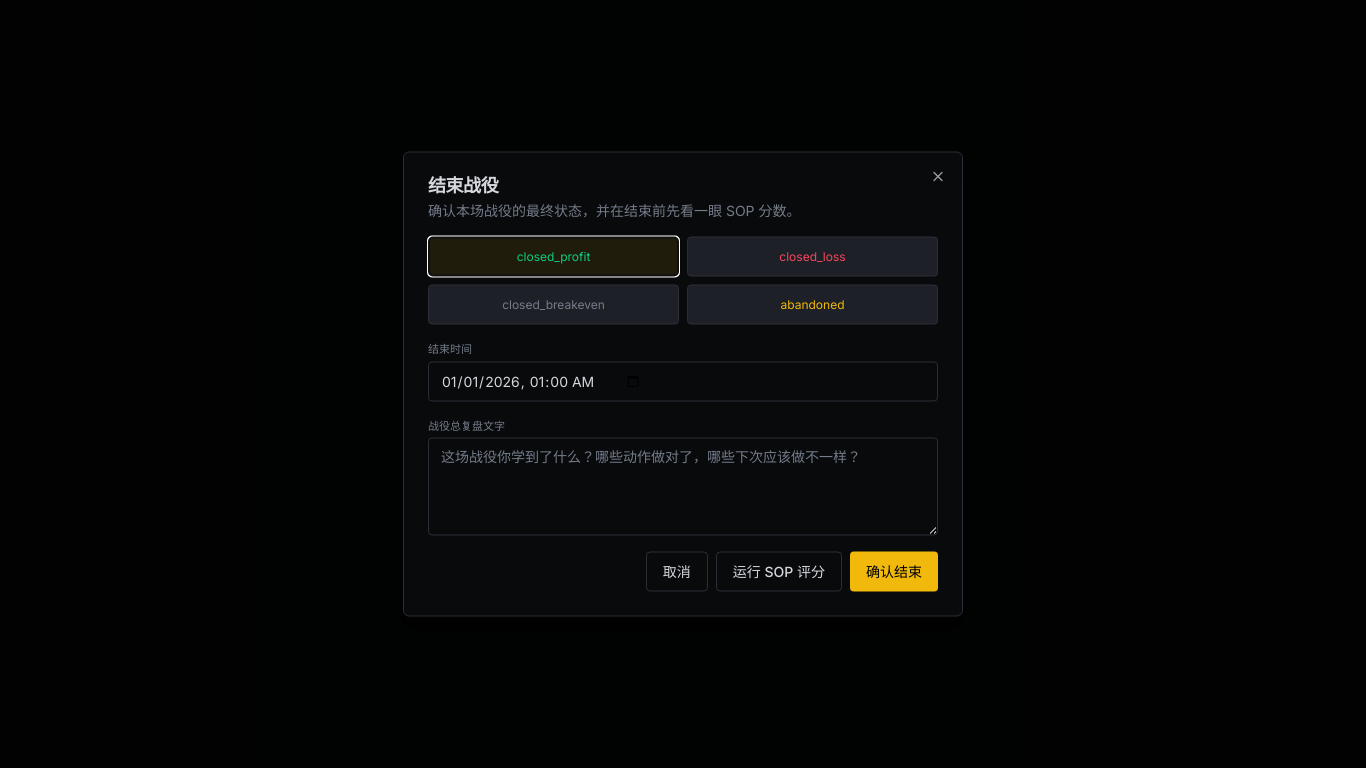
it: EndCampaignDialog · 由校正后的结算推出状态 › 未结算：退回手选流程，默认 closed_profit，没有按钮被锁死，「放弃」在这一档可选
Later steps or results of the test are not shown.
Expected: the dialog is shown, [403,152,963,616]
Expected: the button "closed_profit" is enabled, [428,236,679,276]
Click the button "closed_loss".
click(812, 256)  # box [687,236,938,276]
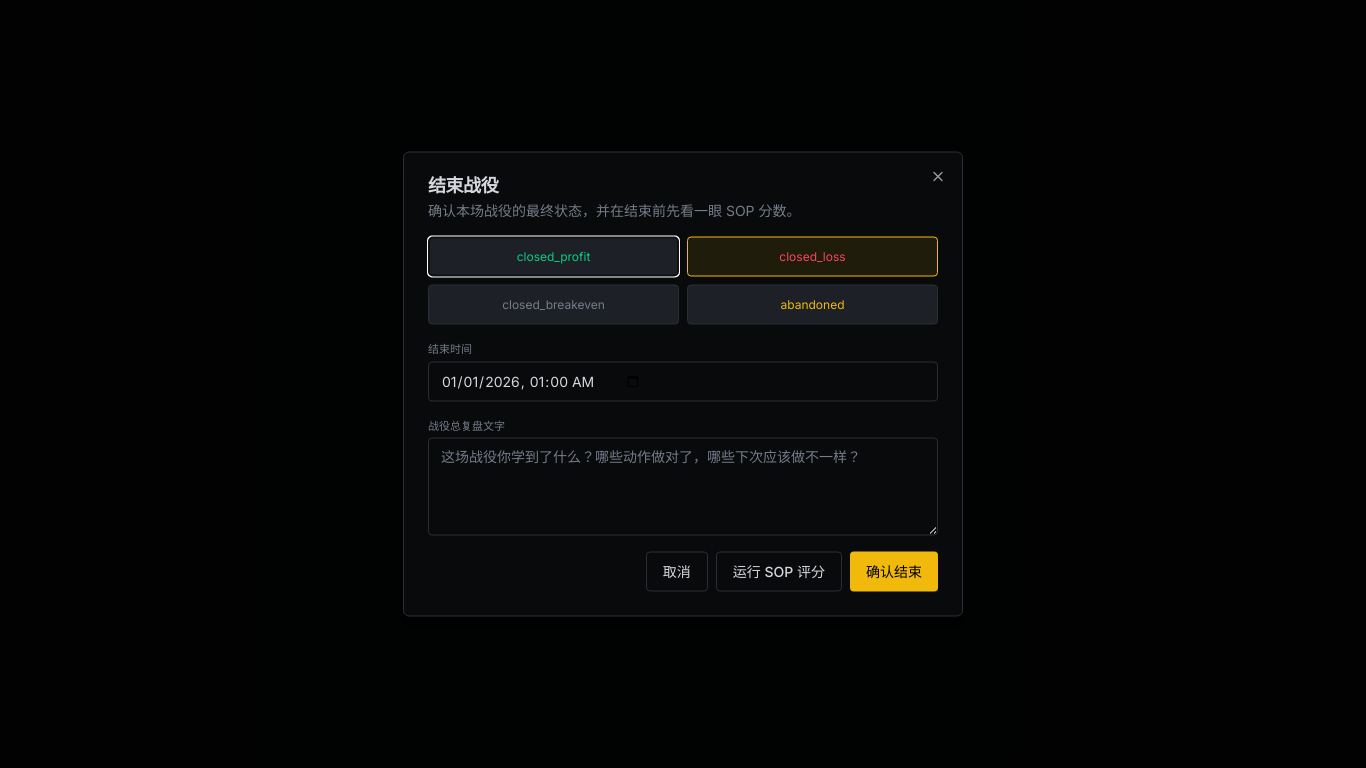
Expected: the button "closed_loss" has class "border-[#F0B90B]", [687,236,938,276]
Click the button "abandoned".
click(812, 304)  # box [687,284,938,324]
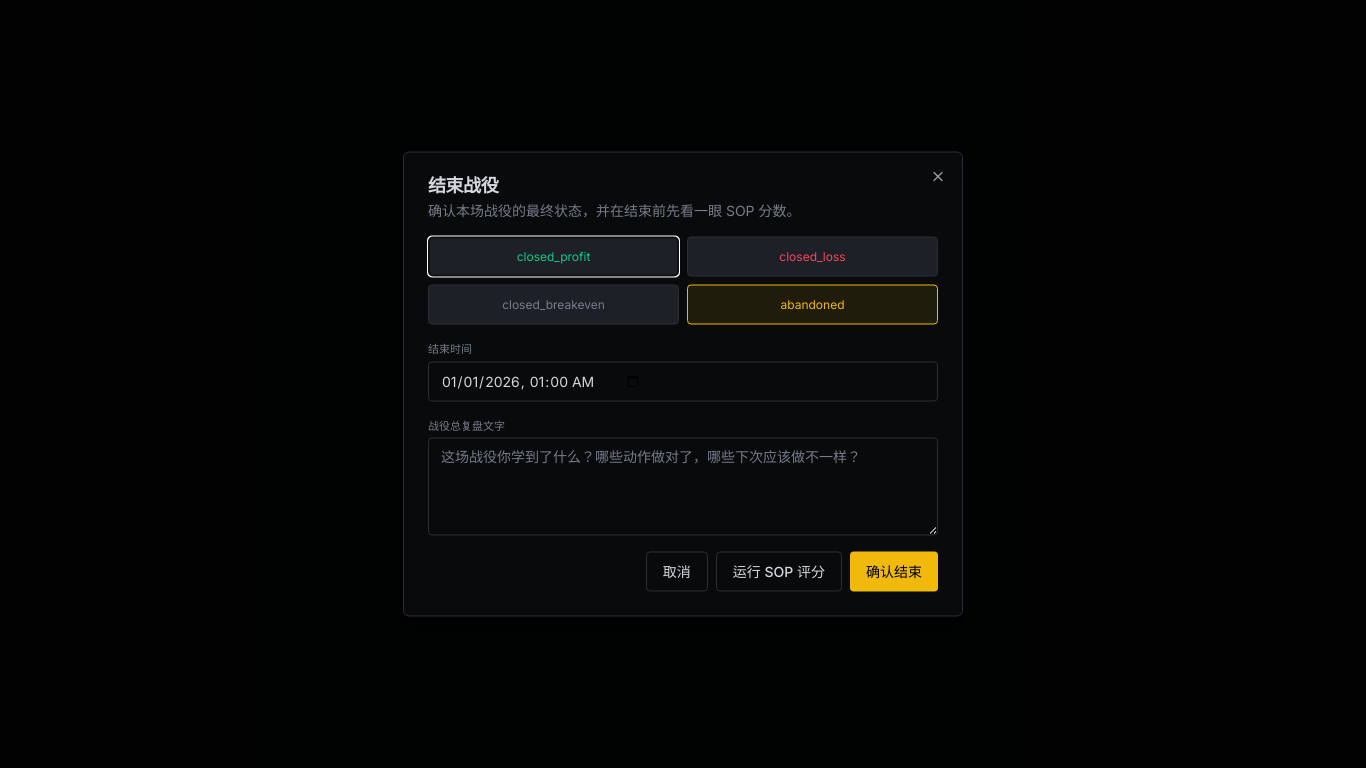
Expected: the button "abandoned" has class "border-[#F0B90B]", [687,284,938,324]
